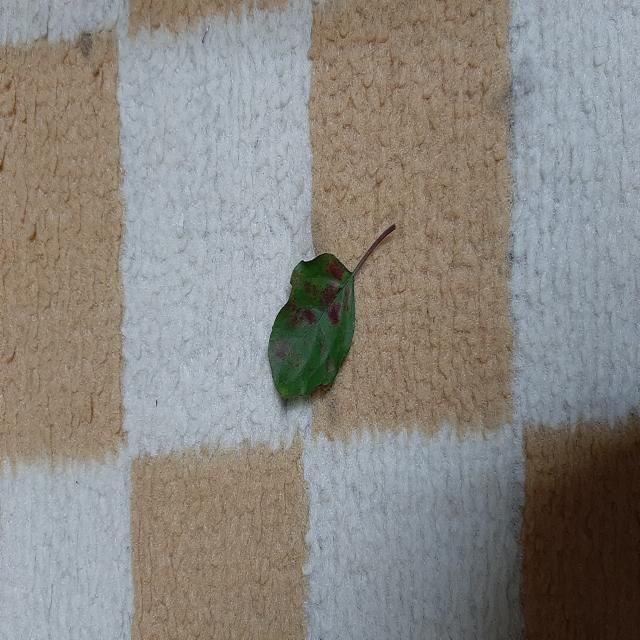defectedtulsi: (289, 255, 352, 325)
tulsi: (269, 225, 395, 398)
